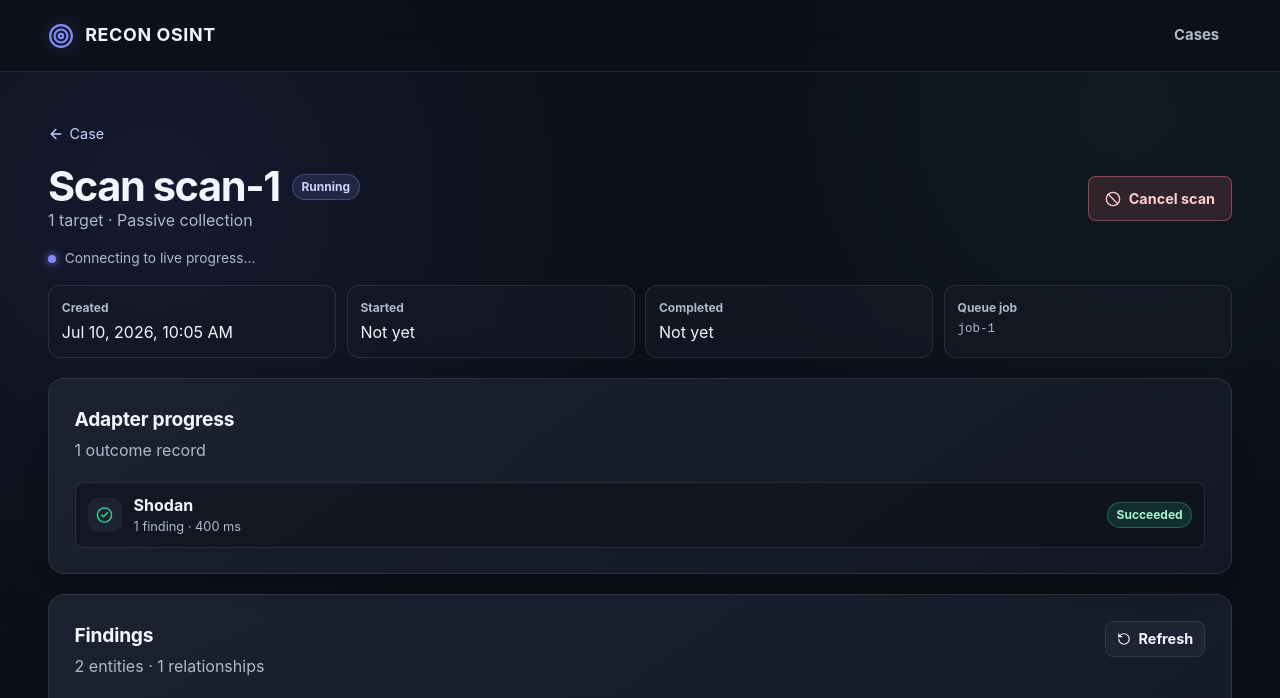
Test: scan detail › keeps an acknowledged cancellation disabled while durable polling continues
Click the button "Cancel scan".
click(1160, 199)  # box x1=1088 y1=176 x2=1232 y2=221
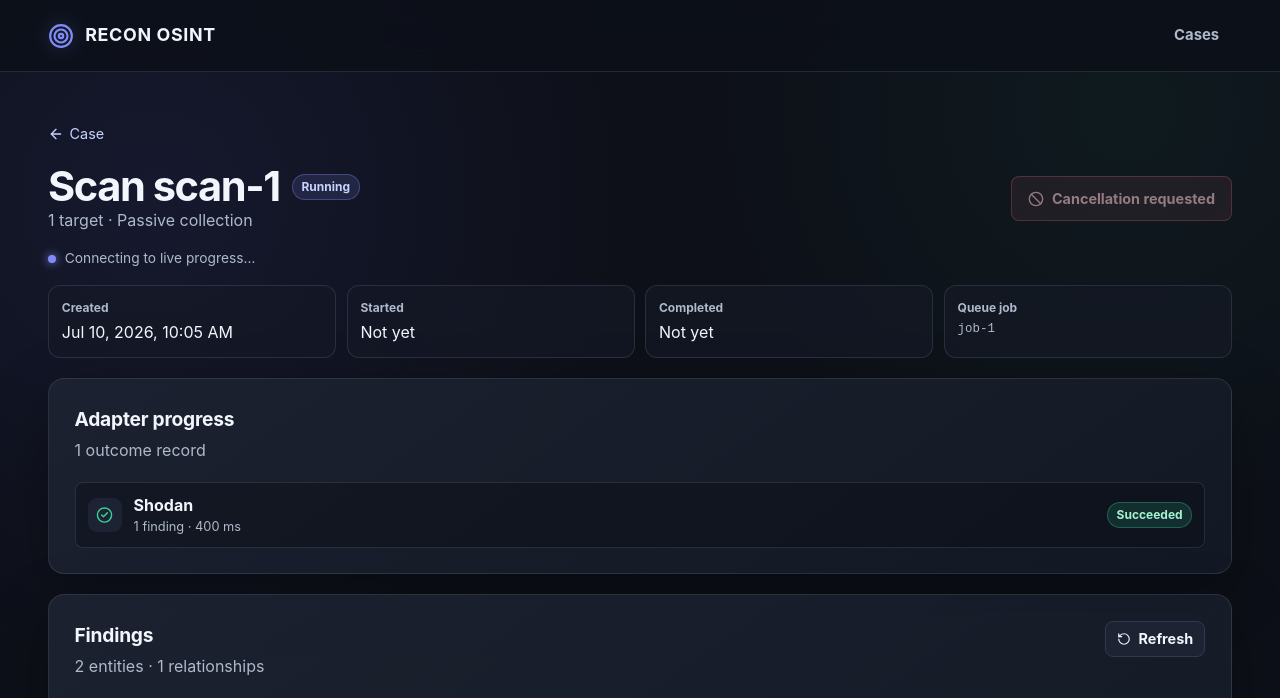
Expected: the button "Cancellation requested" is disabled, x1=1011 y1=176 x2=1232 y2=221
Expected: the button "Cancel scan" is gone
